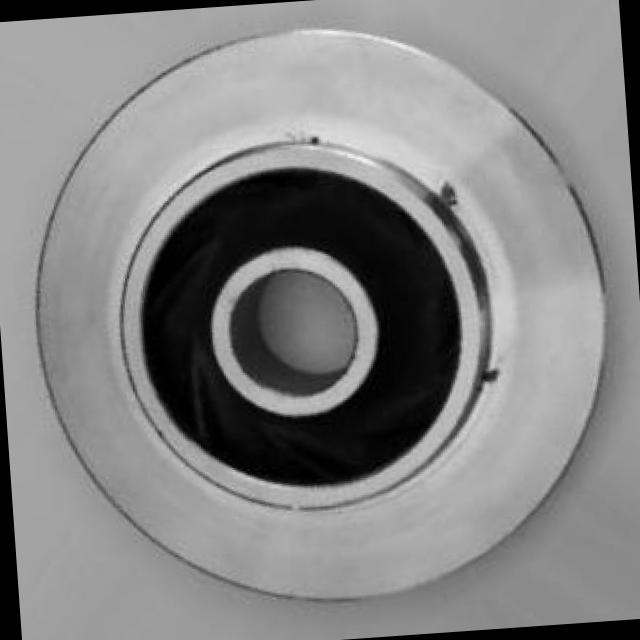Defect: (428, 172, 467, 210)
